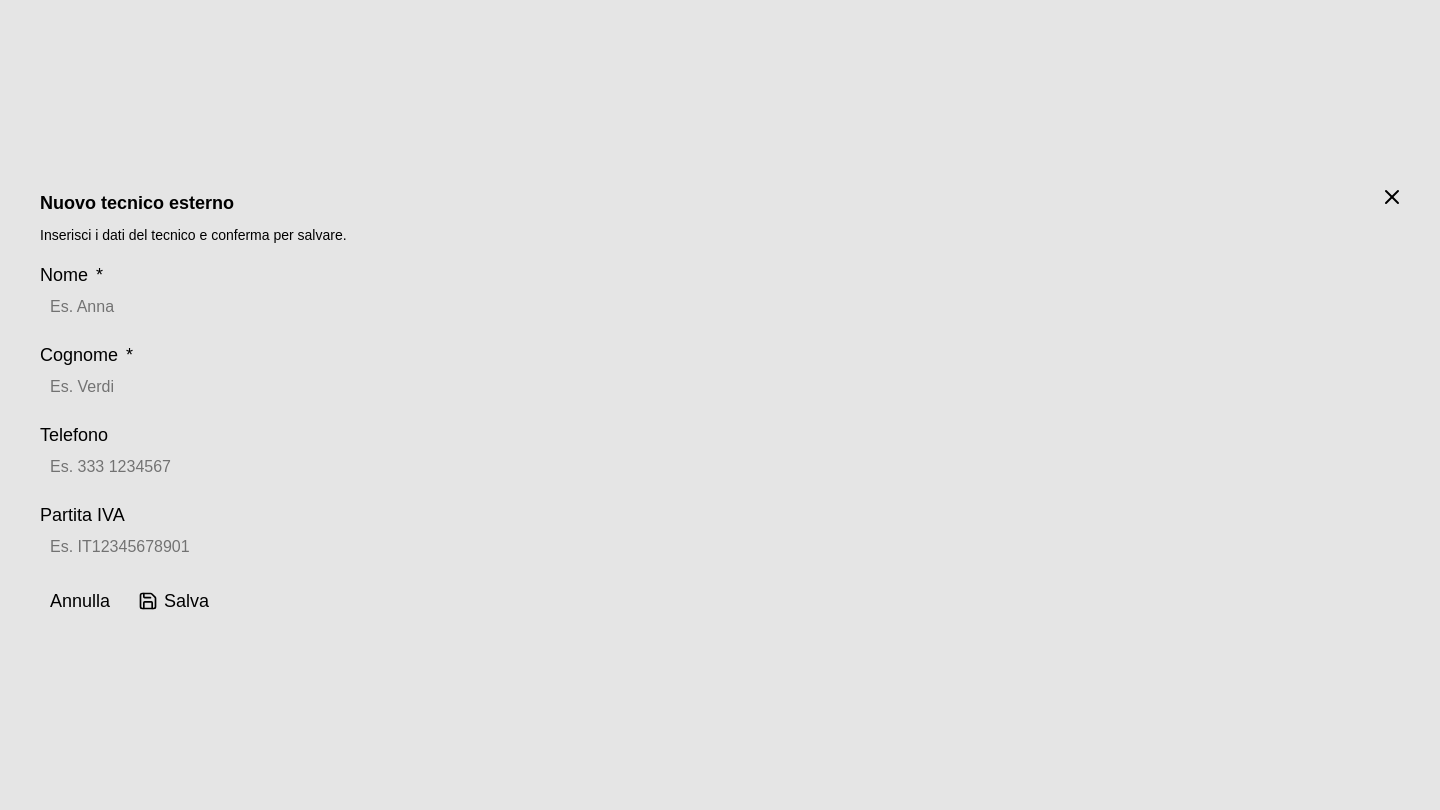
Test: CreateTechnicianDialog › pretende nome e cognome, con il focus sul primo mancante
This screenshot has width=1440, height=810.
Type "Anna" into the field labelled "Nome *".
click(720, 307); type("Anna")  # box [40,289,1400,325]
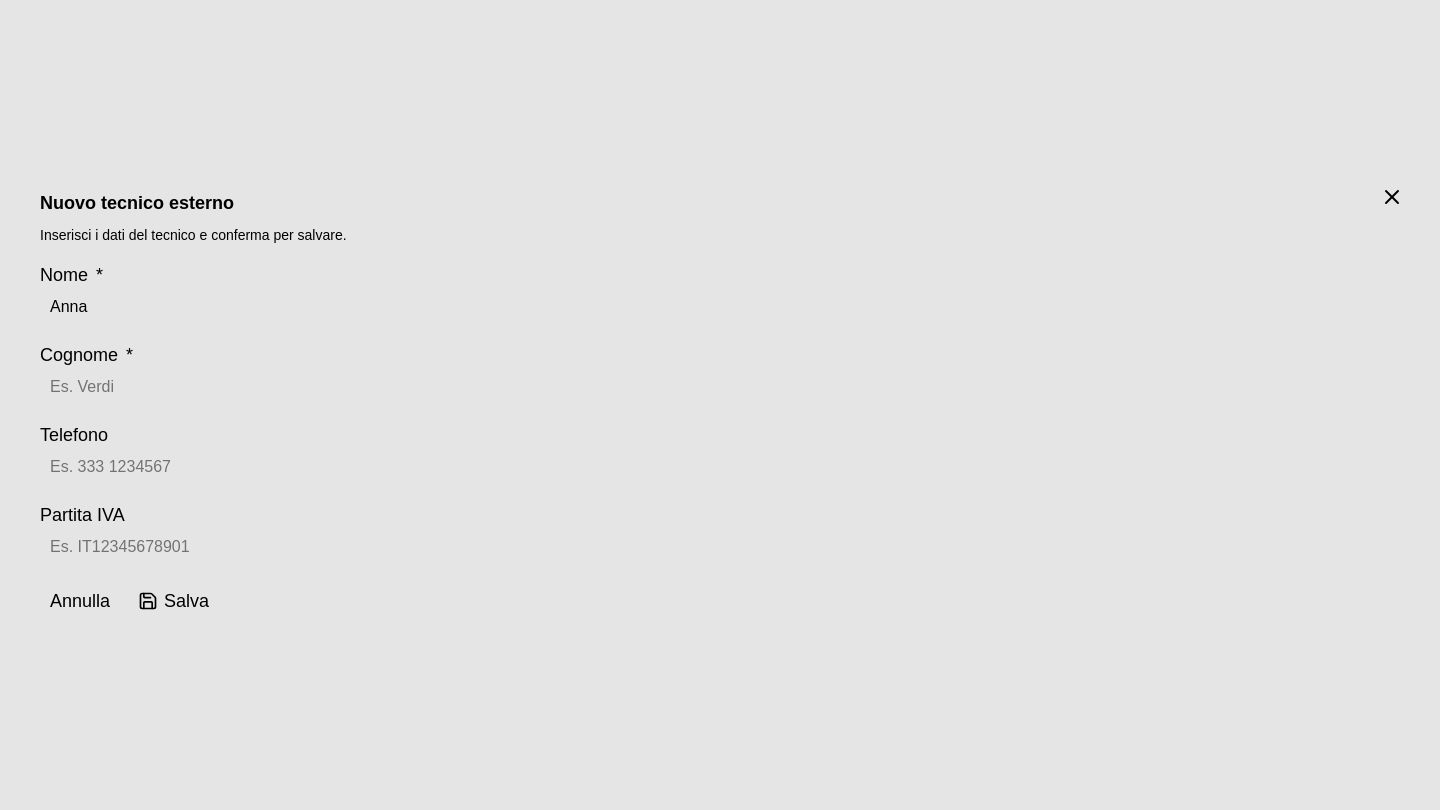
Click the button "Salva".
click(174, 601)  # box [128,581,219,621]
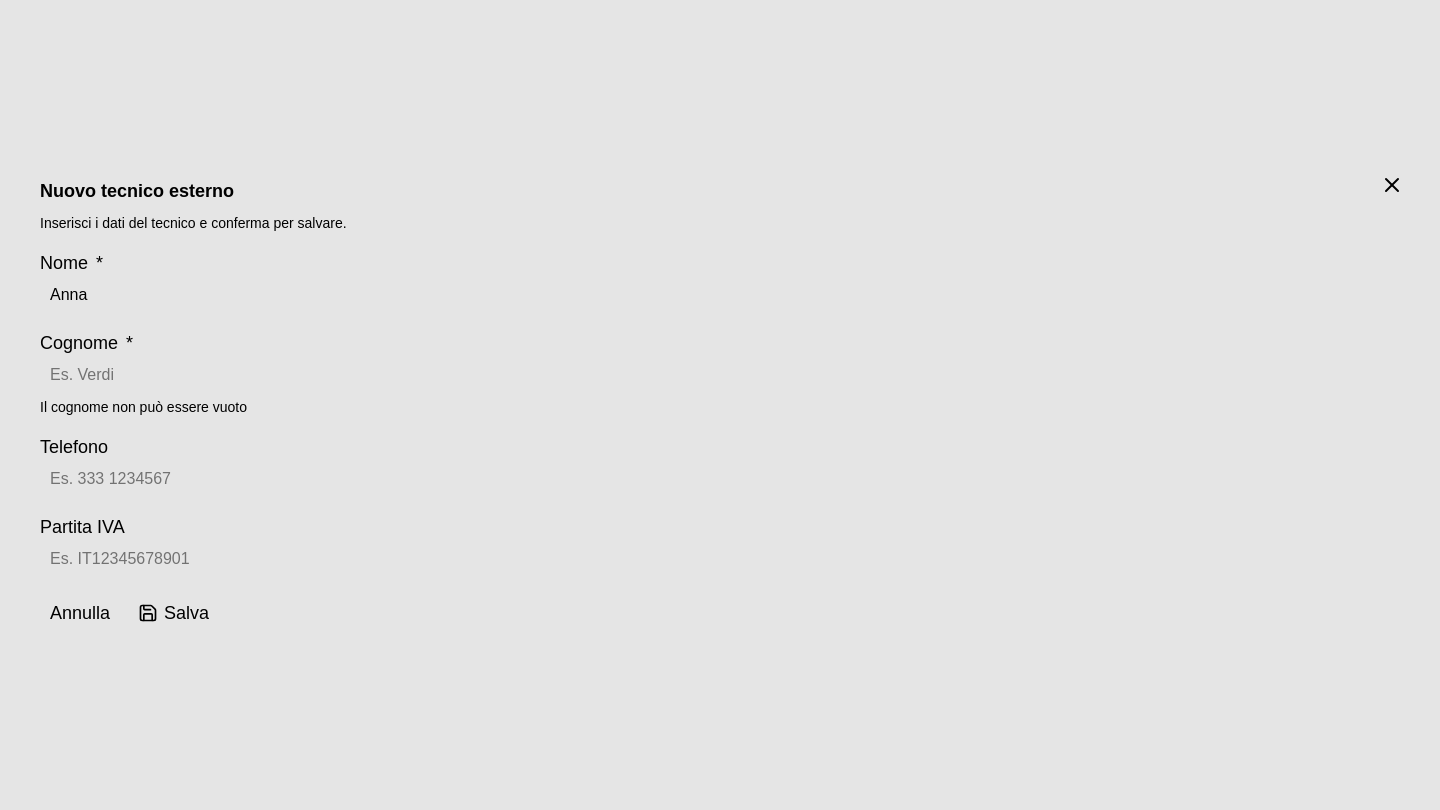
Result: the message reads "Il cognome non può essere vuoto" at [40,399,247,415]
